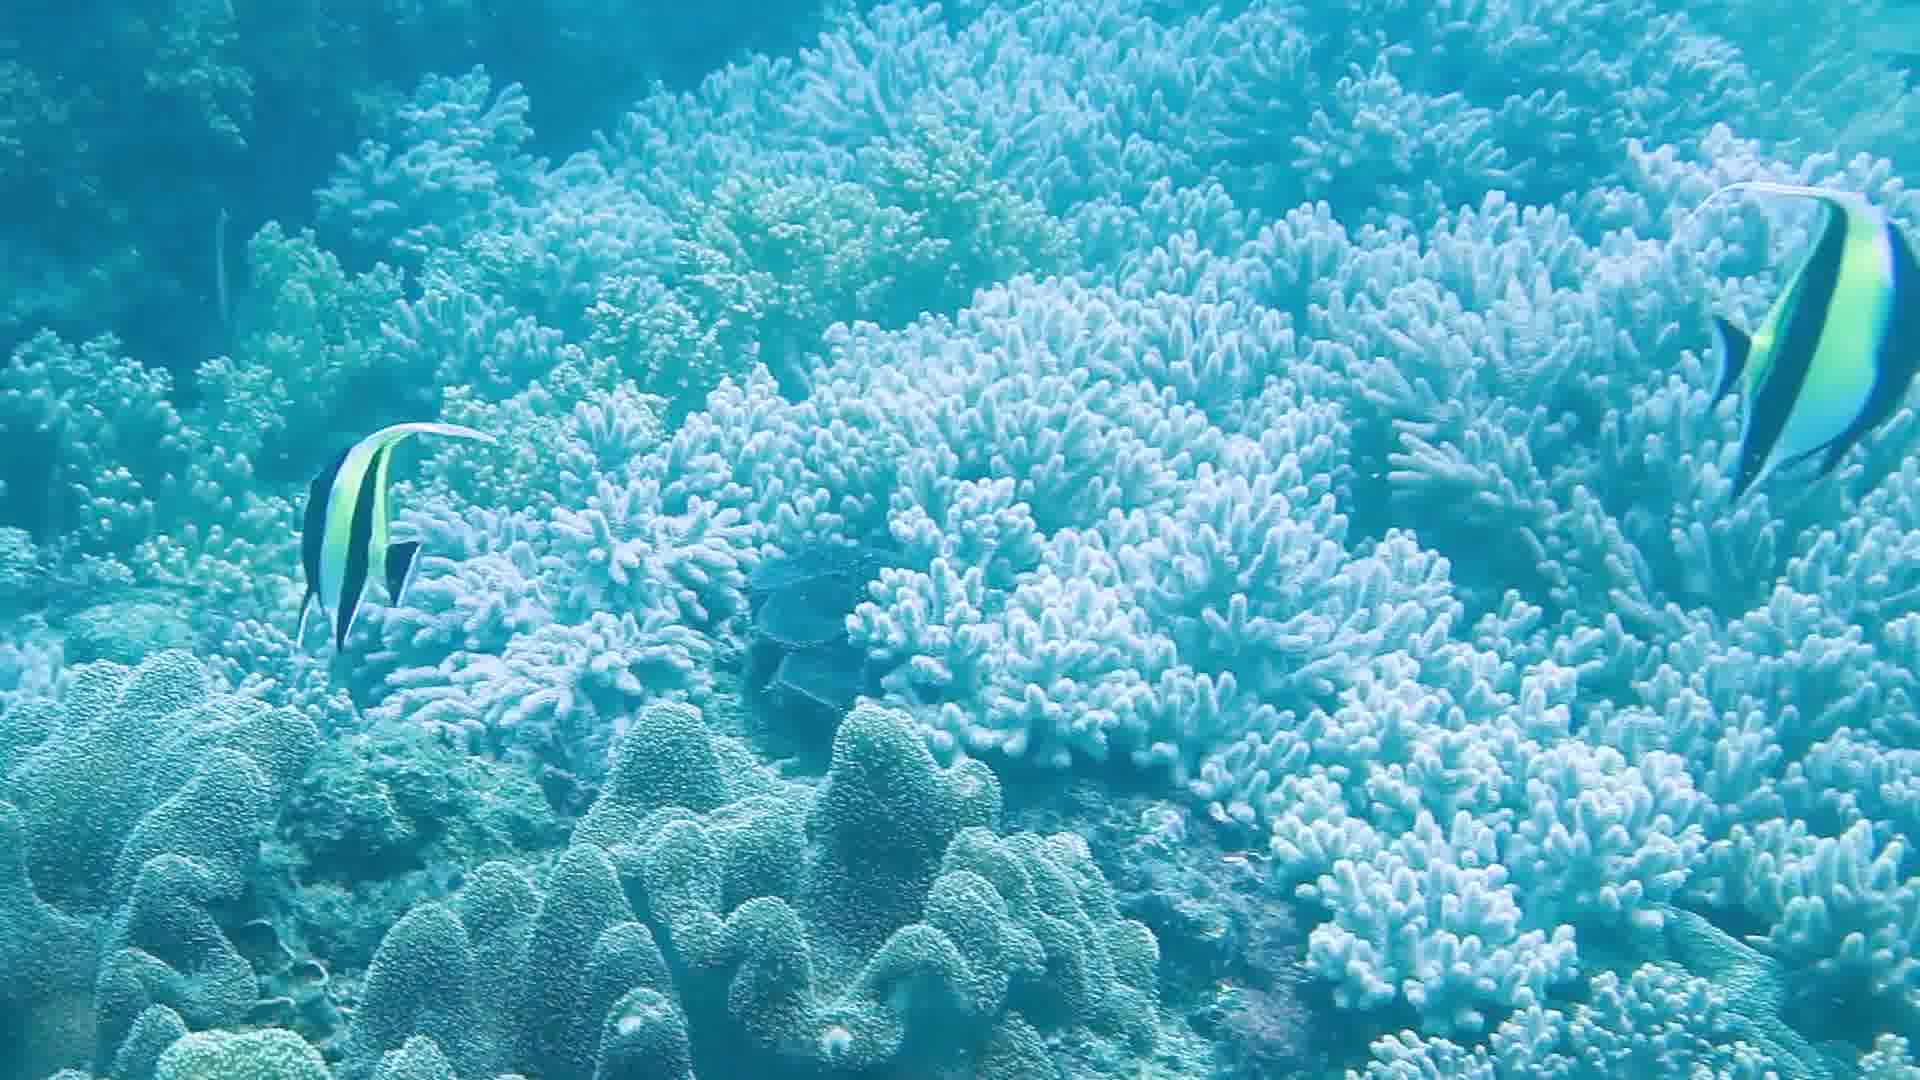Zanclus cornutus: (1685, 116, 1915, 524), (236, 397, 467, 655)
